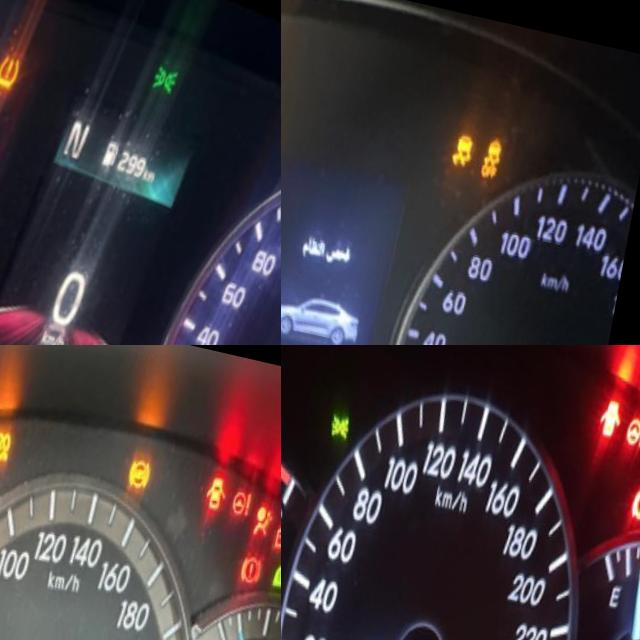Electronic Power Steering: (237, 464, 262, 503), (626, 382, 640, 433)
